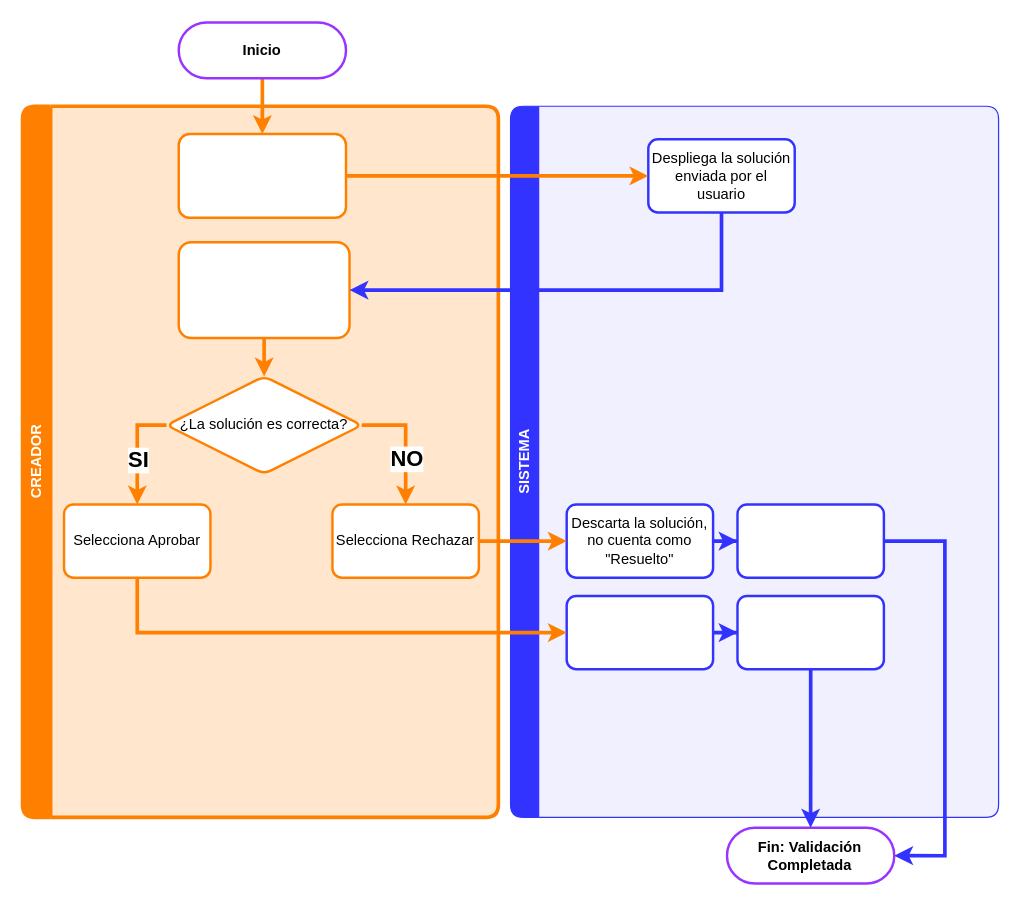
Some shapes in this 1020 by 921 pixel diagram are drawn without their labels. The centre of each missing label's shape, as x and y in pixels:
Accede a Panel de Soluciones Pendientes: pixel 262 175
Envía Feedback de Rechazo al usuario: pixel 810 540
Envía feedback de Éxito al usuario: pixel 810 632
Registra el Challenge como "Resuelto" para el usuario: pixel 639 632
Revisa y prueba la solución manualmente: pixel 263 289
